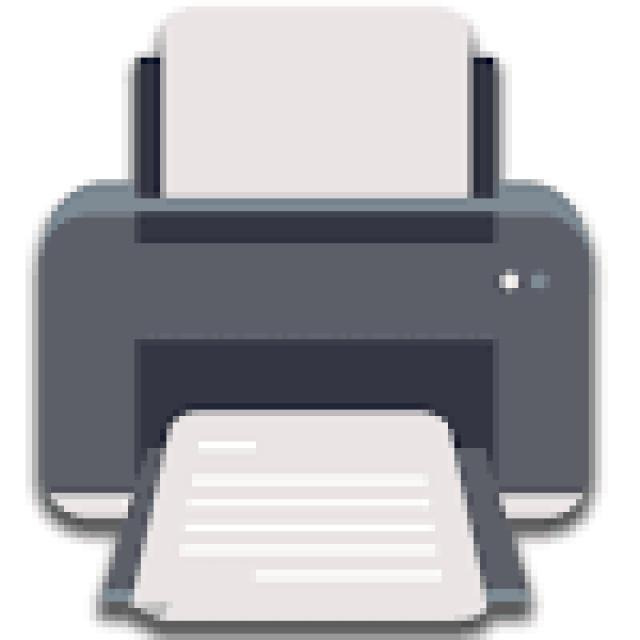printer: (5, 2, 636, 640)
